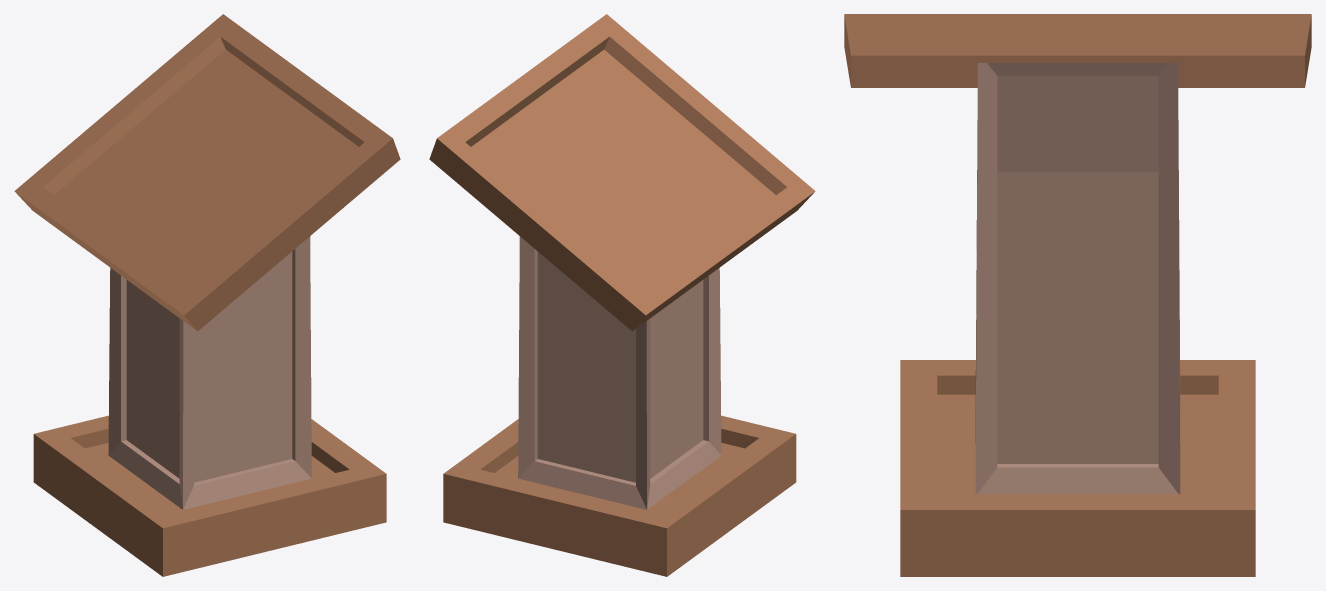
The model's file is lectern.fbx.
The picture shows the model from 3 angles, left to right: view 1: azimuth 30°, elevation 25°; view 2: azimuth 150°, elevation 25°; view 3: azimuth 270°, elevation 25°; orthographic projection. The views are drawn at different scales.
Visible parts, largest first — view 1: Cube.002, Cube.001, Cube; view 2: Cube.002, Cube.001, Cube; view 3: Cube.001, Cube, Cube.002.
Boxes of the visible parts, <box> form: Cube.002: <box>14,14,400,331</box>; Cube.001: <box>108,236,311,509</box>; Cube: <box>33,415,386,576</box>; Cube.002: <box>429,14,815,331</box>; Cube.001: <box>518,236,721,509</box>; Cube: <box>443,415,796,576</box>; Cube.001: <box>975,62,1180,494</box>; Cube: <box>900,360,1255,576</box>; Cube.002: <box>844,14,1311,87</box>.
Size of the model in its own units: 1.87 by 3.21 by 2.46.
